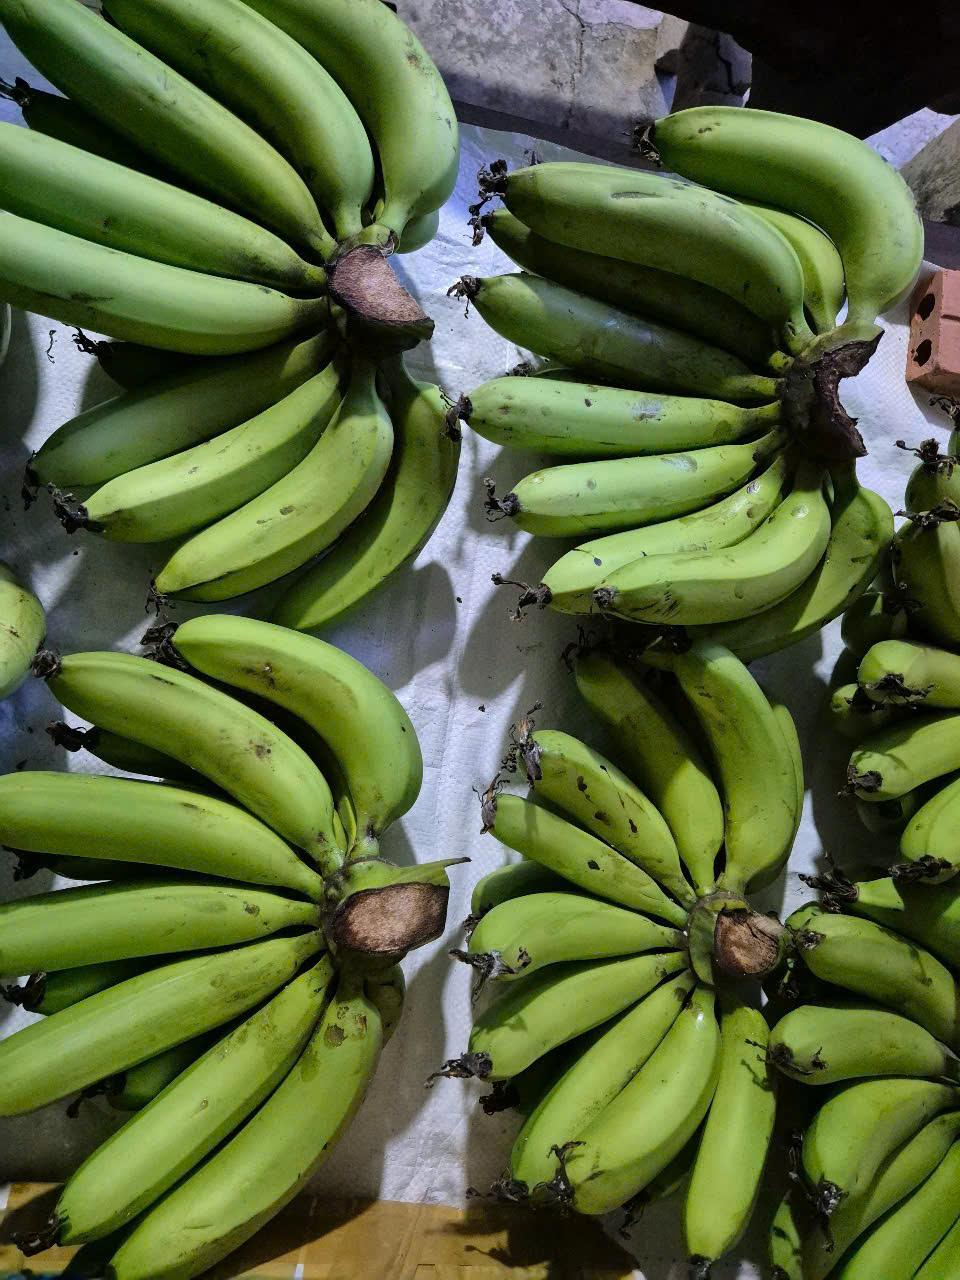banana: (486, 603, 826, 1280), (0, 0, 480, 366), (503, 53, 927, 420), (10, 926, 388, 1280), (0, 623, 439, 921), (36, 360, 463, 623)
